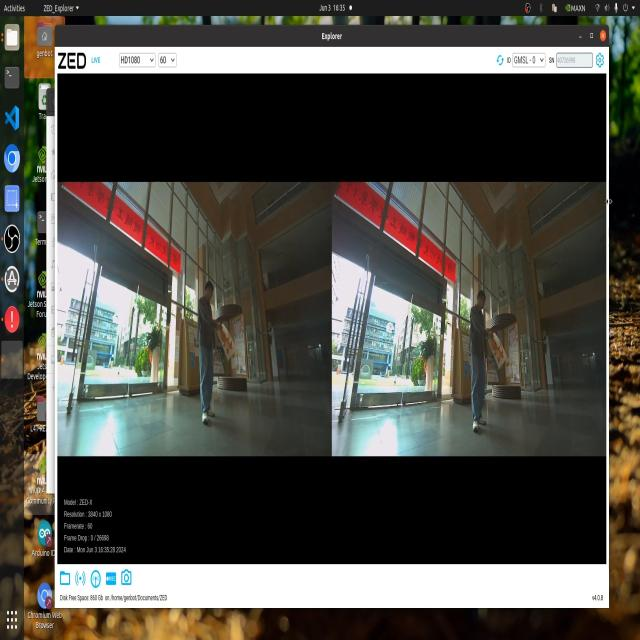red: (213, 327, 239, 360), (489, 332, 509, 372)
